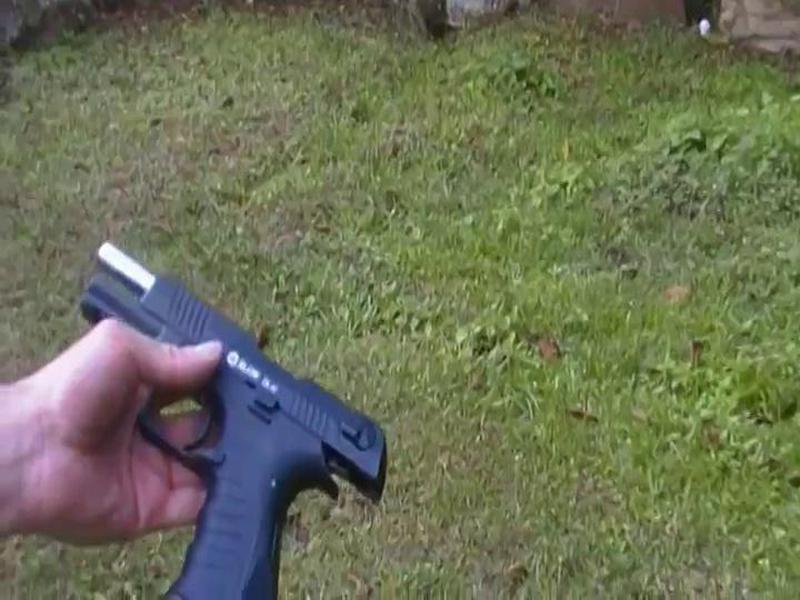Pistola: (63, 242, 439, 600)
